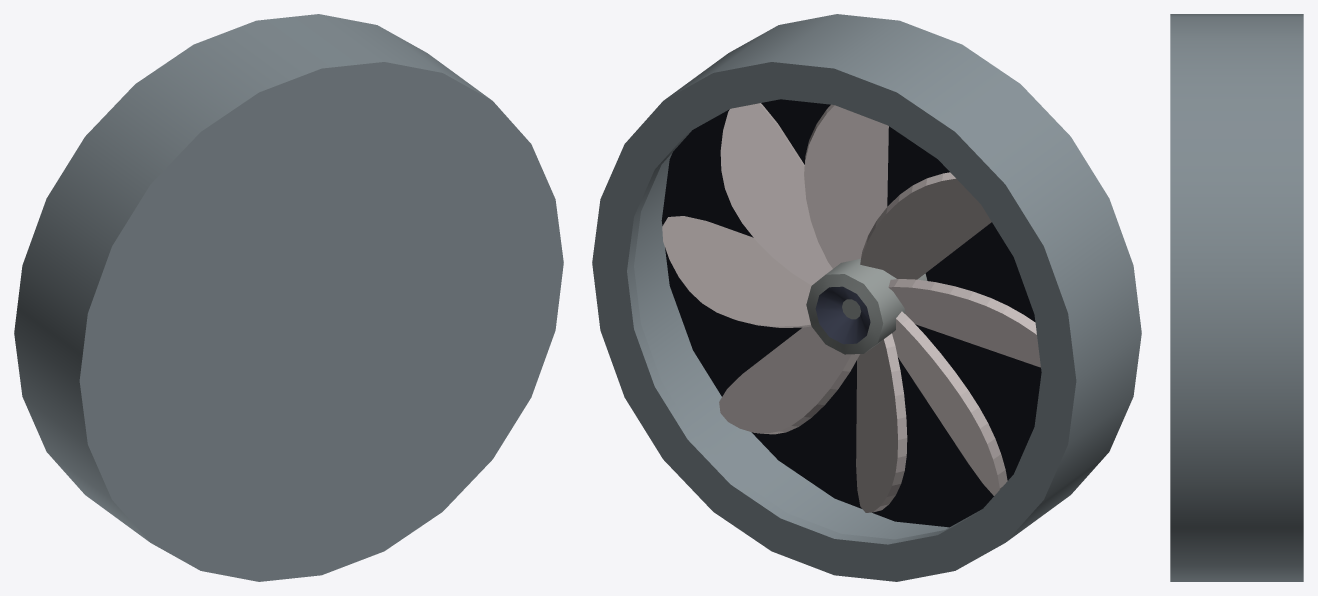
File: fan.fbx
3 renders of one model, left to right at view 1: azimuth 30°, elevation 25°; view 2: azimuth 150°, elevation 25°; view 3: azimuth 270°, elevation 25°, orthographic.
Parts seen in each view (by area): view 1: fan; view 2: fan; view 3: fan.
Part boxes in pixels (left/top/right/bottom): fan: left=14, top=14, right=563, bottom=581; fan: left=592, top=14, right=1141, bottom=581; fan: left=1170, top=14, right=1303, bottom=581.
Size of the model in its own units: 58.18 by 58.18 by 13.62.
